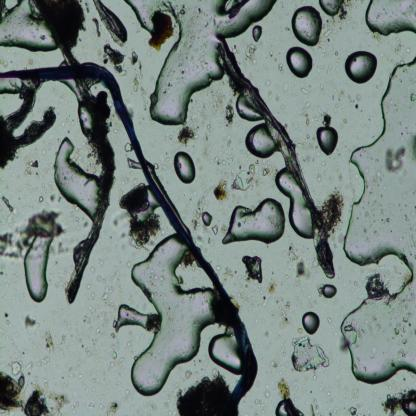Air bubble: (342, 52, 416, 385), (130, 0, 277, 126), (115, 231, 219, 395), (56, 138, 100, 222), (0, 1, 59, 54), (222, 197, 286, 245), (275, 166, 314, 241), (364, 0, 416, 41), (22, 235, 51, 304), (208, 329, 243, 376), (70, 85, 96, 138), (291, 6, 323, 45), (245, 119, 276, 159), (284, 44, 314, 81), (345, 50, 377, 83), (314, 121, 340, 156), (173, 150, 196, 184), (234, 95, 264, 121), (317, 0, 346, 20), (275, 397, 303, 415), (302, 310, 320, 336), (321, 282, 338, 300), (252, 25, 262, 43), (202, 212, 213, 226)
Background material: (0, 362, 66, 414), (174, 372, 241, 415), (34, 0, 89, 52), (120, 186, 160, 247), (211, 158, 266, 202), (289, 334, 332, 376), (74, 306, 110, 350), (24, 206, 67, 241), (197, 74, 223, 128), (248, 270, 280, 310), (147, 9, 175, 53), (394, 298, 416, 346), (364, 195, 390, 233), (102, 41, 127, 79), (384, 386, 416, 415), (322, 192, 344, 234), (382, 139, 408, 173), (285, 247, 310, 280), (0, 230, 29, 257), (328, 84, 364, 105), (240, 254, 263, 286), (366, 271, 390, 300), (129, 53, 144, 99), (175, 121, 200, 148), (192, 199, 207, 233), (263, 350, 283, 375), (0, 190, 18, 216), (38, 180, 60, 201), (277, 300, 291, 330), (44, 329, 57, 358), (300, 100, 311, 134), (323, 18, 337, 44), (274, 377, 292, 397), (407, 125, 416, 164), (103, 394, 121, 413), (225, 97, 235, 128), (23, 156, 41, 173), (99, 284, 118, 300), (246, 41, 259, 64), (157, 154, 172, 173), (108, 347, 122, 366), (298, 86, 316, 99), (316, 81, 327, 101), (22, 314, 37, 328), (262, 385, 274, 399), (309, 399, 320, 414), (326, 312, 334, 330), (350, 322, 358, 340), (94, 271, 106, 282), (69, 368, 80, 380), (275, 60, 283, 76), (94, 368, 100, 389), (408, 89, 416, 104), (87, 400, 100, 408), (124, 141, 133, 152), (405, 210, 411, 226), (348, 405, 358, 414), (4, 311, 10, 325), (0, 271, 5, 276)
Cellulose filter fibre: (220, 44, 336, 280), (66, 77, 113, 304), (0, 83, 58, 155), (94, 1, 127, 43)
Cotton: (0, 61, 258, 412)
